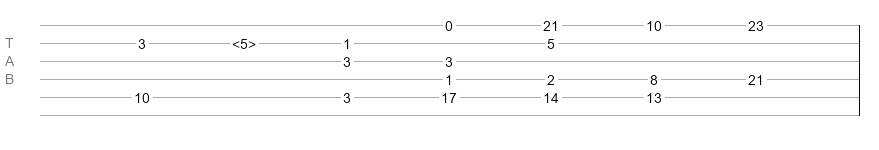0: (445, 18, 453, 28)
1: (343, 36, 351, 46), (445, 72, 453, 82)
10: (134, 90, 150, 100), (646, 18, 662, 28)
13: (646, 90, 662, 100)
14: (543, 90, 559, 100)
17: (441, 90, 457, 100)
2: (547, 72, 555, 82)
21: (543, 18, 559, 28), (748, 72, 764, 82)
23: (748, 18, 764, 28)
3: (138, 36, 146, 46), (343, 54, 351, 64), (343, 90, 351, 100), (445, 54, 453, 64)
5: (547, 36, 555, 46)
8: (650, 72, 658, 82)
harmonic: (232, 36, 256, 46)
